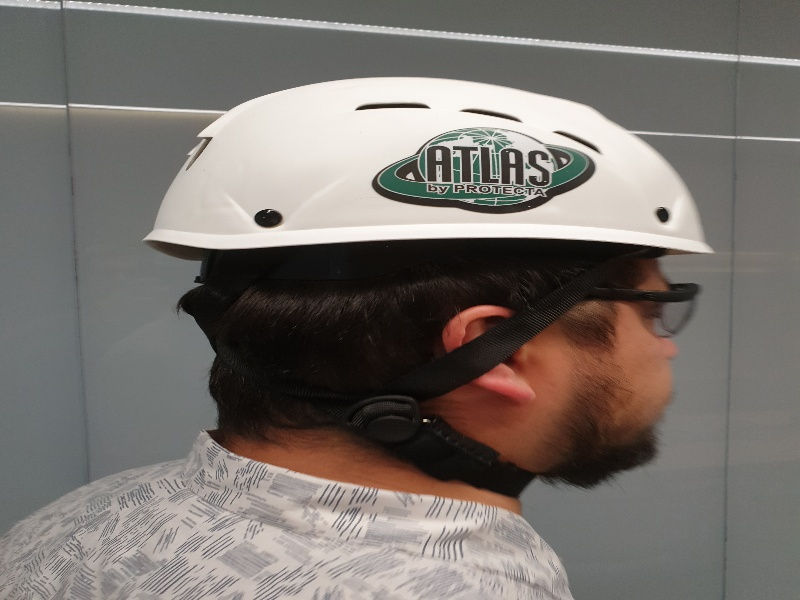Baret: (146, 77, 716, 258)
Gozluk: (579, 282, 703, 341)
